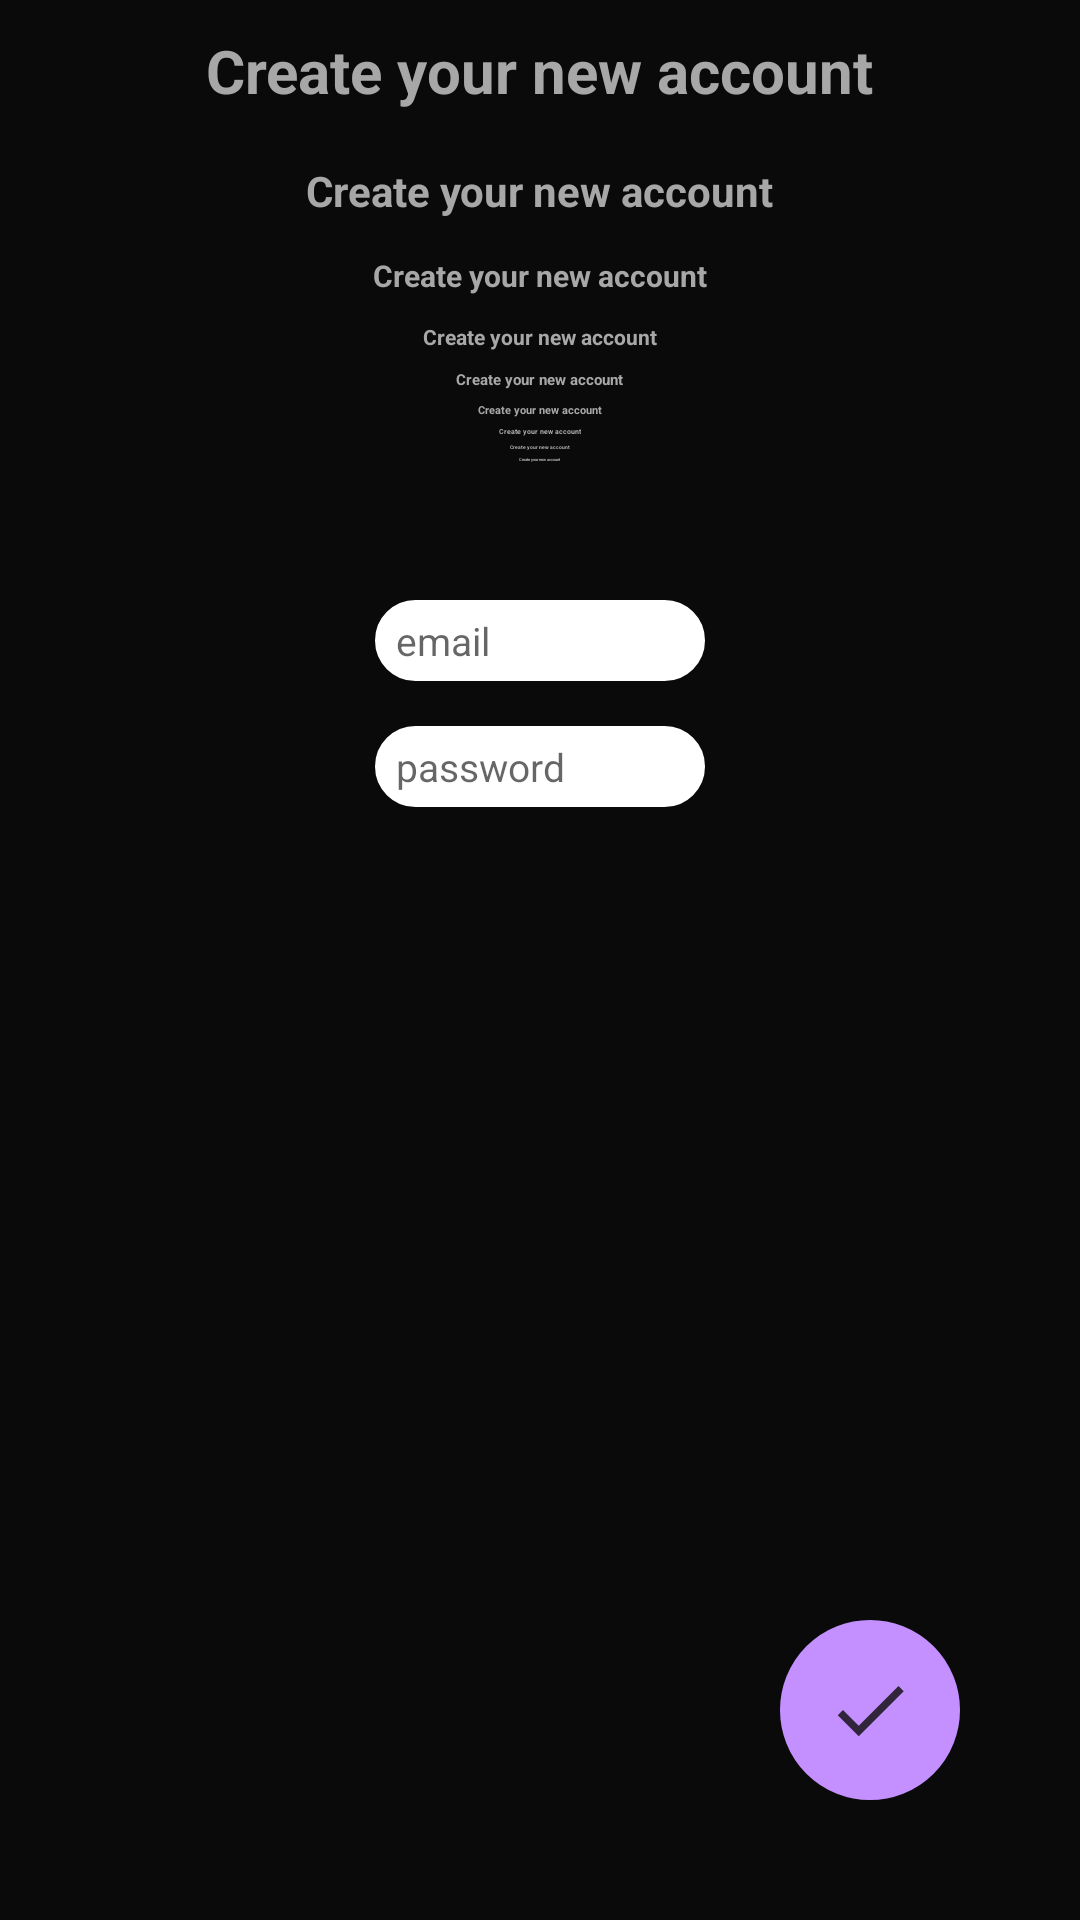

Icons on this 1080px×1920px Android screen, each with its box as (x1, y1, x2, y2):
done: (780, 1620, 960, 1800)
